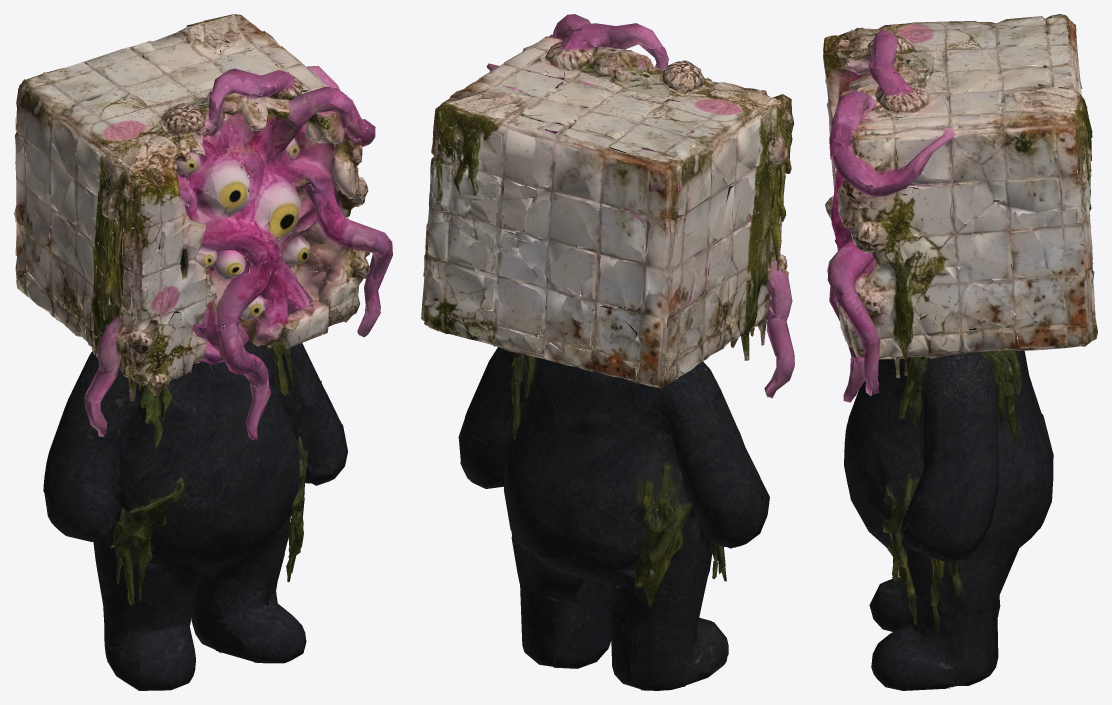
The model's file is cubo_rivelato.glb.
The picture shows the model from 3 angles, left to right: view 1: azimuth 30°, elevation 25°; view 2: azimuth 150°, elevation 25°; view 3: azimuth 270°, elevation 25°; orthographic projection. The views are drawn at different scales.
Visible parts, largest first — view 1: cubo_rivelato; view 2: cubo_rivelato; view 3: cubo_rivelato.
Part boxes in pixels (bbox=[...]): cubo_rivelato: bbox=[14, 14, 392, 690]; cubo_rivelato: bbox=[421, 14, 794, 690]; cubo_rivelato: bbox=[823, 14, 1097, 690].
Bounding box in the file's own units: 0.6532 × 1.25 × 0.503.
1 material, 1 textured.
